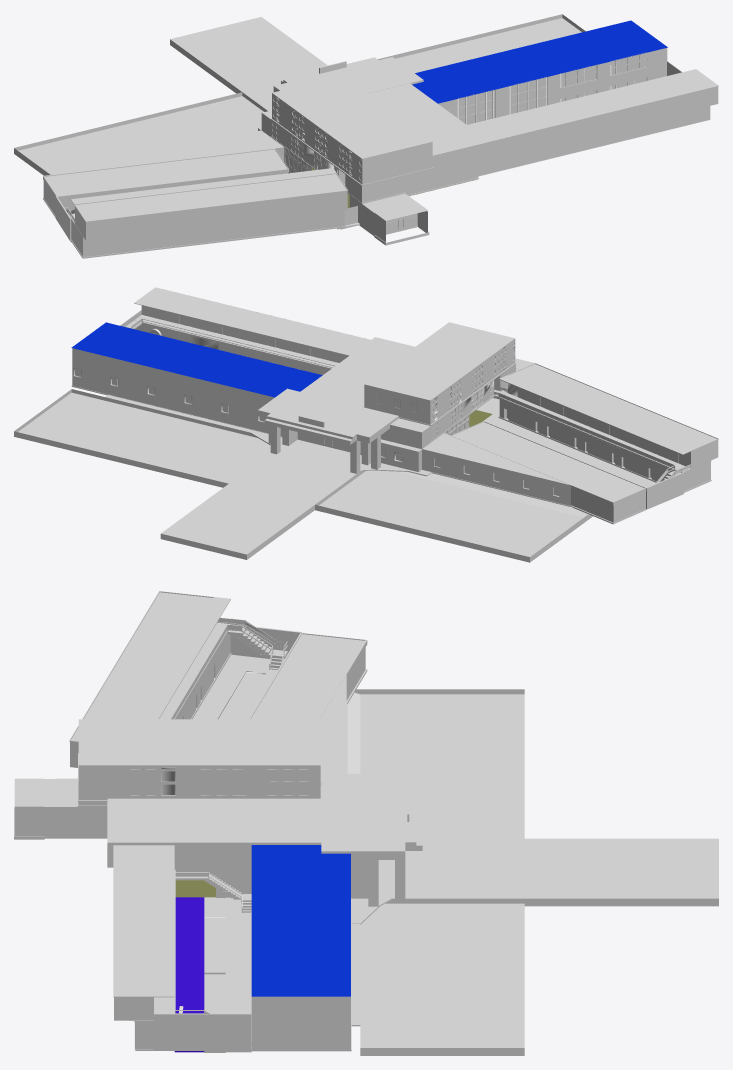
Rendered from Toilettes.gltf.
3 renders of one model, top to bottom at view 1: azimuth 30°, elevation 25°; view 2: azimuth 150°, elevation 25°; view 3: azimuth 270°, elevation 25°, orthographic. The views are drawn at different scales.
Visible parts, largest first — view 1: building_134.001, building_008.001, Plane.025, Plane.012, Cube.104, building_008.003, building_048.008, Plane.021, building_004.003, building_048.005, Cube.107, Plane.013 (+19 smaller); view 2: building_134.001, Cube.104, Plane.013, Plane.025, building_008.003, building_048.008, building_131.001, Plane.021, building_004.003, building_008.005, building_048.005, building_008.001 (+22 smaller); view 3: building_134.001, Cube.104, Plane.025, building_048.008, Cube.107, building_008.003, Plane.021, Cube.105, building_004.003, Plane.026, Cube.008, Cube.007 (+27 smaller).
Boxes of the visible parts, box(x1,y1,x2,y2) form: building_134.001: box(18, 18, 616, 174); building_008.001: box(64, 191, 347, 258); Plane.025: box(412, 20, 667, 103); Plane.012: box(478, 73, 718, 176); Cube.104: box(170, 17, 327, 111); building_008.003: box(70, 168, 348, 222); building_048.008: box(272, 75, 432, 158); Plane.021: box(467, 69, 718, 141); building_004.003: box(44, 149, 287, 196); building_048.005: box(271, 93, 433, 185); Cube.107: box(367, 83, 489, 157); Plane.013: box(438, 48, 667, 123); building_134.001: box(14, 392, 583, 562); Cube.104: box(160, 456, 352, 559); Plane.013: box(71, 327, 302, 437); Plane.025: box(71, 322, 322, 397); building_008.003: box(499, 363, 718, 454); building_048.008: box(364, 322, 514, 400); building_131.001: box(422, 433, 570, 506); Plane.021: box(134, 287, 370, 355); building_004.003: box(453, 422, 644, 501); building_008.005: box(499, 383, 690, 478); building_048.005: box(364, 338, 516, 425); building_008.001: box(498, 387, 718, 492); building_134.001: box(354, 689, 524, 1055); Cube.104: box(418, 838, 718, 906); Plane.025: box(251, 845, 350, 996); building_048.008: box(78, 719, 320, 765); Cube.107: box(107, 798, 321, 845); building_008.003: box(69, 591, 230, 741); Plane.021: box(114, 845, 174, 996); Cube.105: box(321, 782, 416, 845); building_004.003: box(251, 634, 364, 719); Plane.026: box(251, 996, 350, 1050); Cube.008: box(153, 1014, 251, 1050); Cube.007: box(174, 897, 204, 1052).
Size of the model in its own units: 131 by 14.69 by 96.83.
